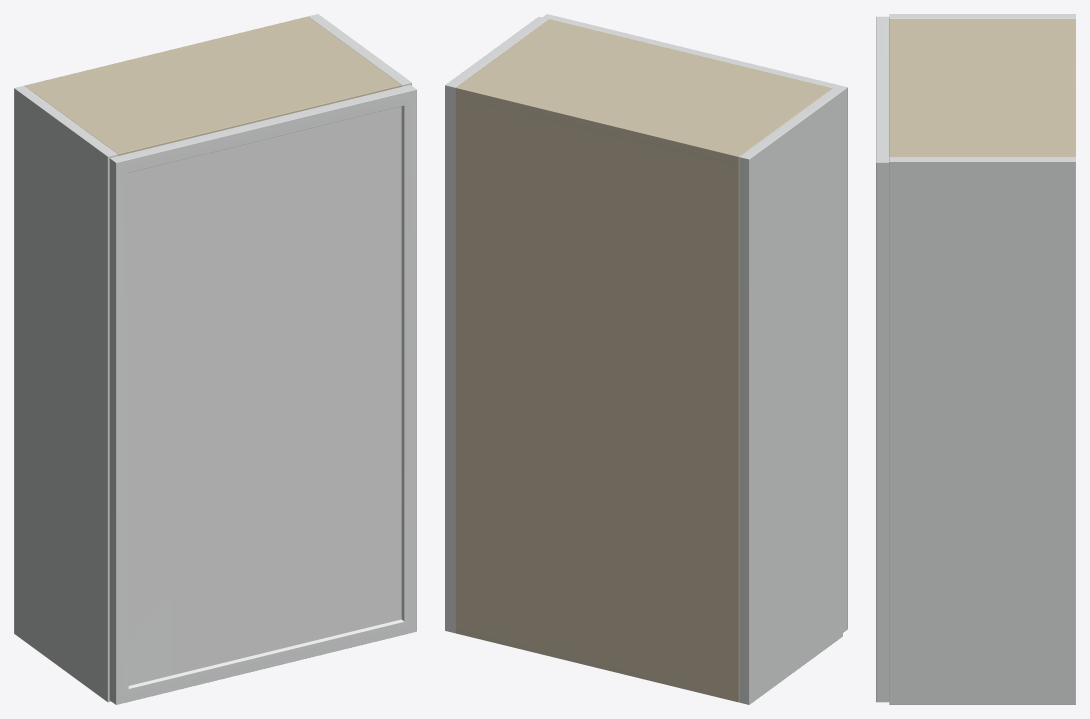
The model's file is oppein-ply-ssw-w1236.glb.
3 views of the same model, side by side, from view 1: azimuth 30°, elevation 25°; view 2: azimuth 150°, elevation 25°; view 3: azimuth 270°, elevation 25° (orthographic).
Visible parts, largest first — view 1: Door, Cabinet side, Cabinet top, Cabinet back, Cabinet side.001; view 2: Cabinet back, Cabinet side, Cabinet top, Cabinet side.001, Door, Cabinet bottom; view 3: Cabinet side.001, Cabinet top, Door, Cabinet back, Cabinet side.
Boxes of the visible parts, x1=… form: Door: x1=109, y1=85, x2=416, y2=704; Cabinet side: x1=14, y1=86, x2=117, y2=702; Cabinet top: x1=24, y1=19, x2=401, y2=155; Cabinet back: x1=25, y1=16, x2=310, y2=87; Cabinet side.001: x1=308, y1=14, x2=411, y2=86; Cabinet back: x1=455, y1=85, x2=741, y2=702; Cabinet side: x1=739, y1=88, x2=842, y2=704; Cabinet top: x1=455, y1=19, x2=832, y2=166; Cabinet side.001: x1=445, y1=16, x2=548, y2=632; Door: x1=542, y1=14, x2=847, y2=632; Cabinet bottom: x1=455, y1=623, x2=739, y2=702; Cabinet side.001: x1=889, y1=157, x2=1075, y2=704; Cabinet top: x1=889, y1=19, x2=1075, y2=156; Door: x1=876, y1=16, x2=889, y2=702; Cabinet back: x1=1068, y1=19, x2=1075, y2=156; Cabinet side: x1=889, y1=14, x2=1075, y2=18.
Bounding box in the file's own units: 0.5334 × 0.9144 × 0.3048.
